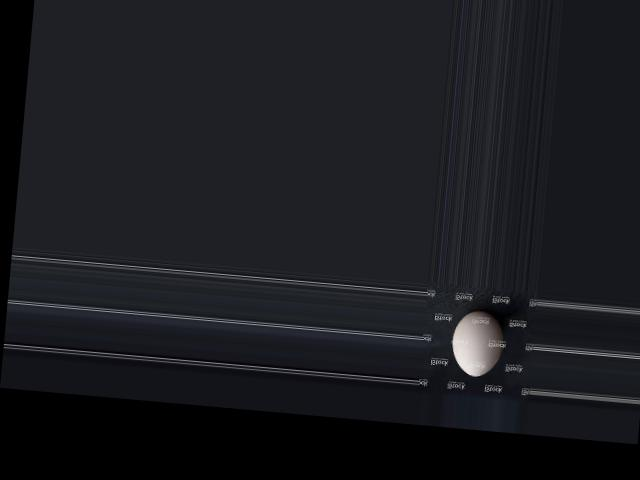egg: (450, 308, 506, 378)
